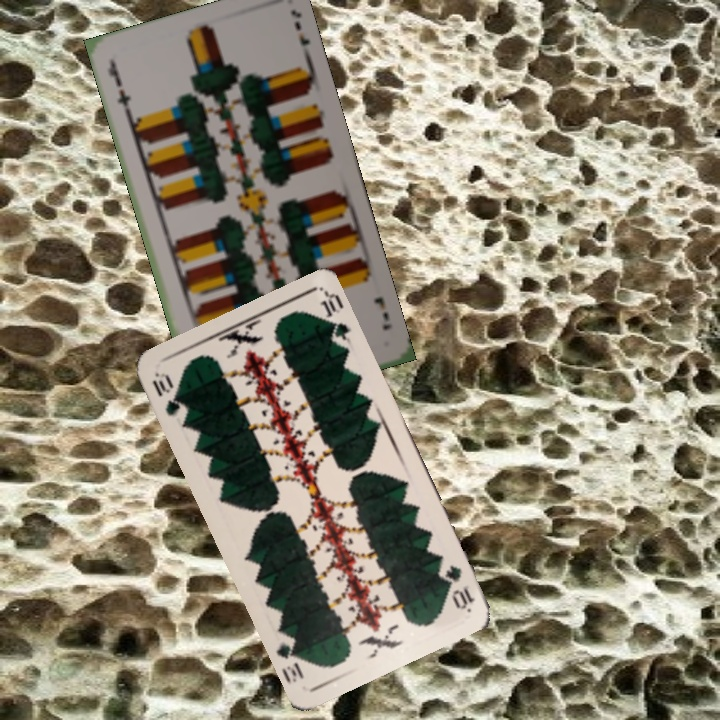E7: (104, 57, 134, 115), (370, 293, 394, 333)
G10: (441, 560, 478, 612), (148, 368, 185, 419)
